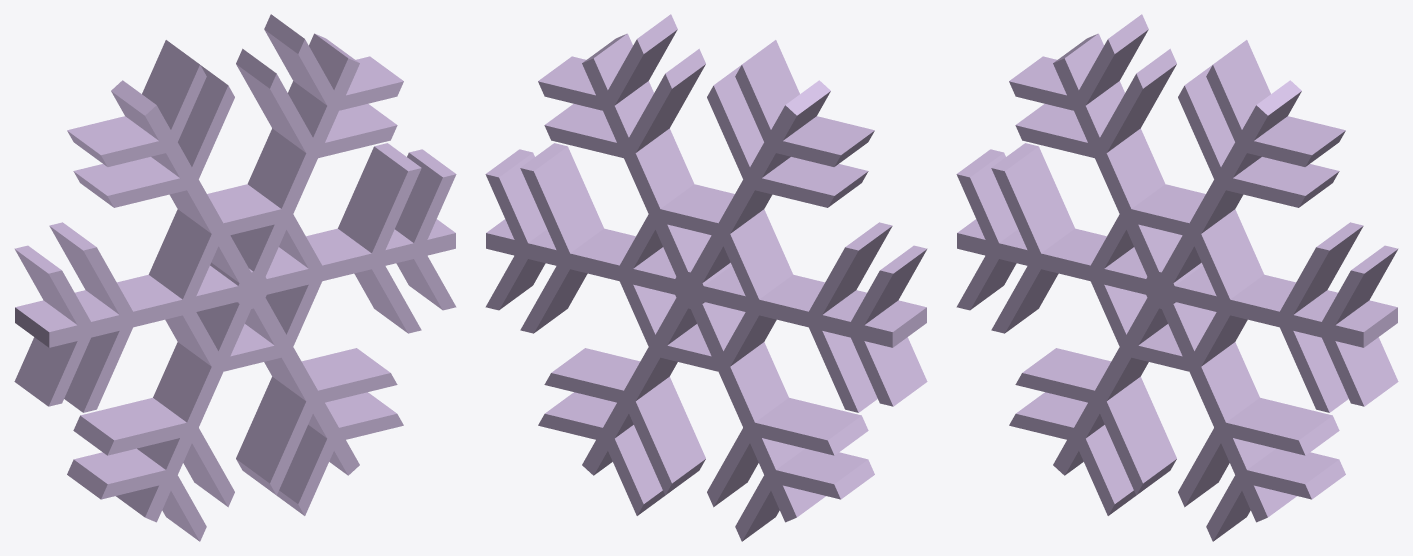
Rendered from snow.obj.
3 renders of one model, left to right at view 1: azimuth 30°, elevation 25°; view 2: azimuth 150°, elevation 25°; view 3: azimuth 330°, elevation 25°, orthographic.
Parts seen in each view (by area): view 1: obj_0; view 2: obj_0; view 3: obj_0.
Part boxes in pixels (x1,y1,x2,y2): obj_0: [14, 14, 456, 541]; obj_0: [485, 14, 927, 541]; obj_0: [956, 14, 1398, 541].
Size of the model in its own units: 13.85 by 15.49 by 2.01.
